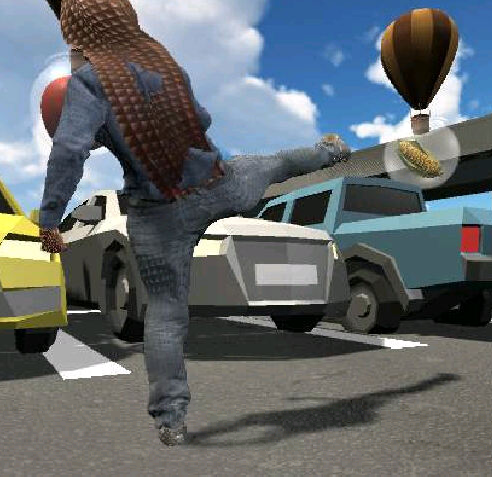turn_right: (40, 2, 348, 443)
